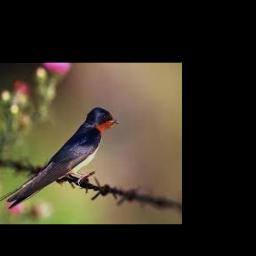Swallow: (0, 108, 119, 209)
